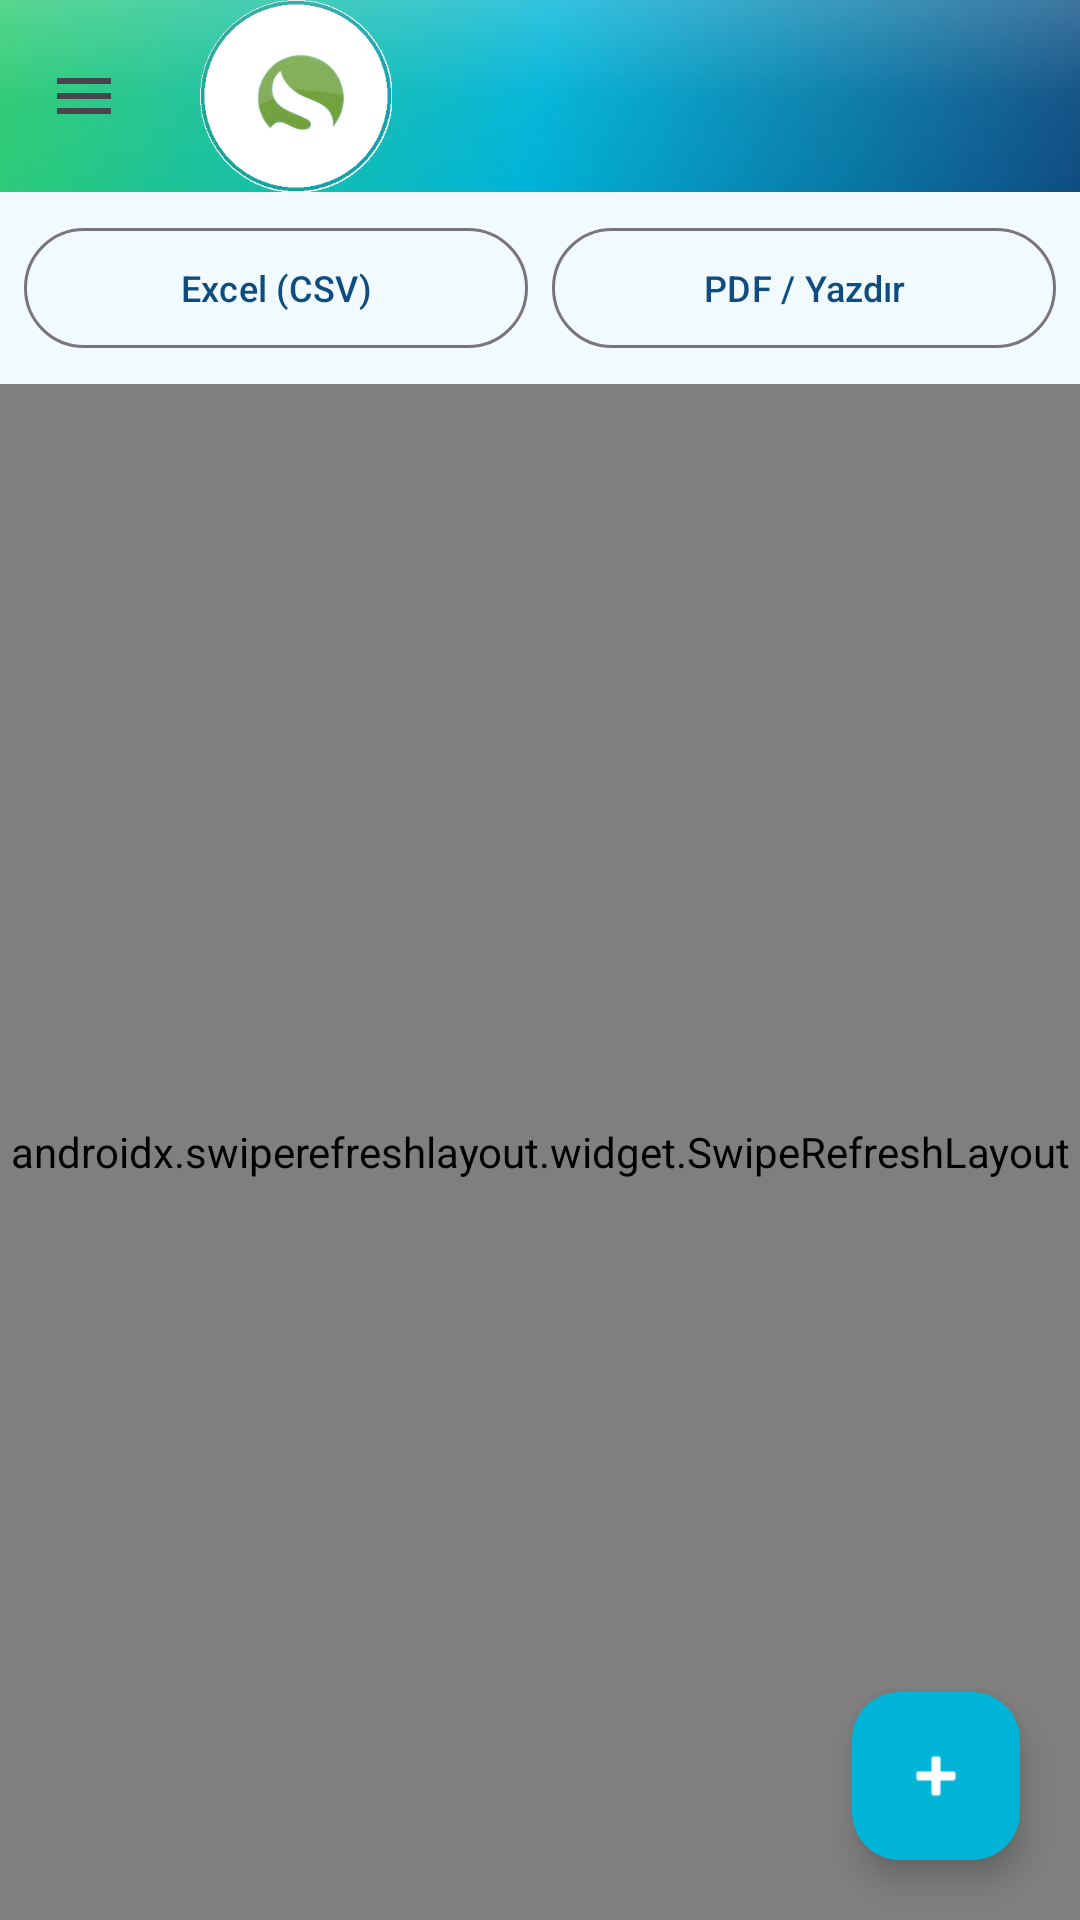

Named icons in this screenshot (1080×1920) and their bounding boxes, (x1, y1, x2, y2):
Ekle: (852, 1692, 1020, 1860)
